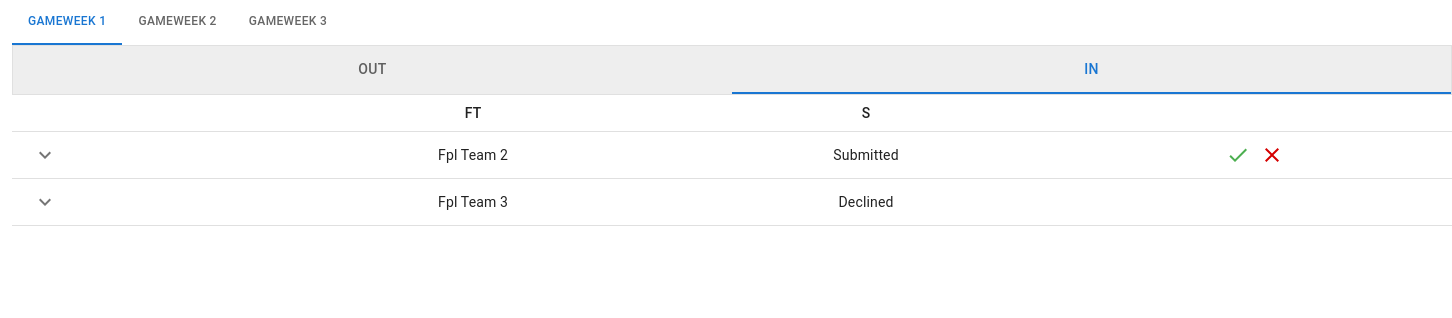
Test: TeamTradeTabs › when action = in › renders the inTrades if the action = in
Expected: the cell "Fpl Team 2" is shown, [272,132,674,179]
Expected: the cell "Submitted" is shown, [674,132,1058,179]
Click the button without text in the row of "Fpl Team 2" at x=45, y=155, box [28,138,62,172]
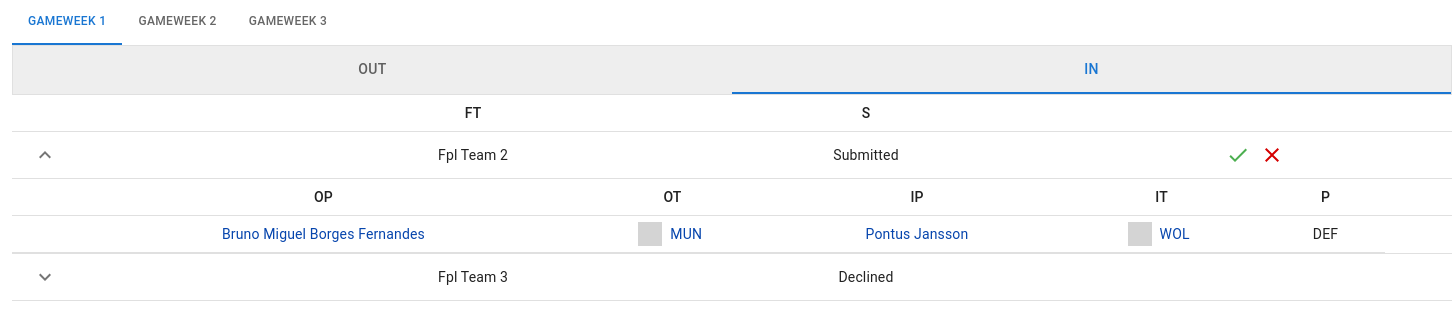
Now the link "MUN" is shown, box [638,222,706,246]
Now the link "WOL" is shown, box [1128,222,1196,246]
Now the cell "DEF" is shown, box [1266,216,1385,253]
